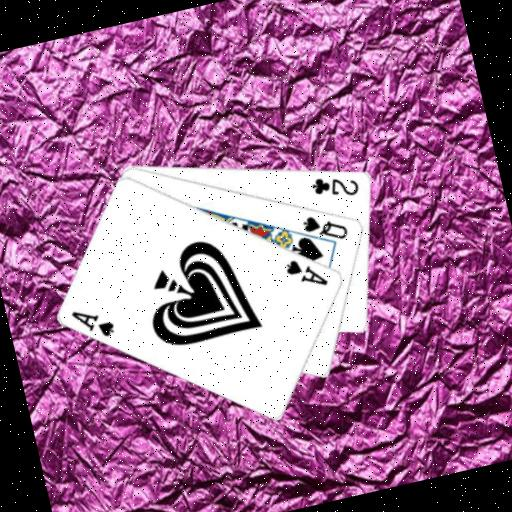2C: (307, 166, 363, 206)
AS: (67, 299, 119, 346), (281, 249, 331, 295)
QS: (298, 205, 351, 249)
